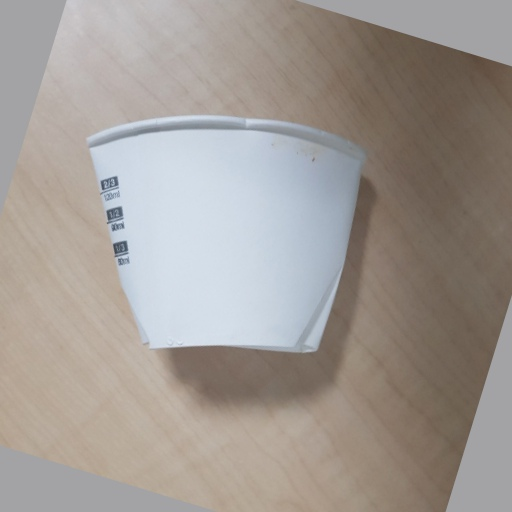Paper_1: (88, 111, 365, 352)
